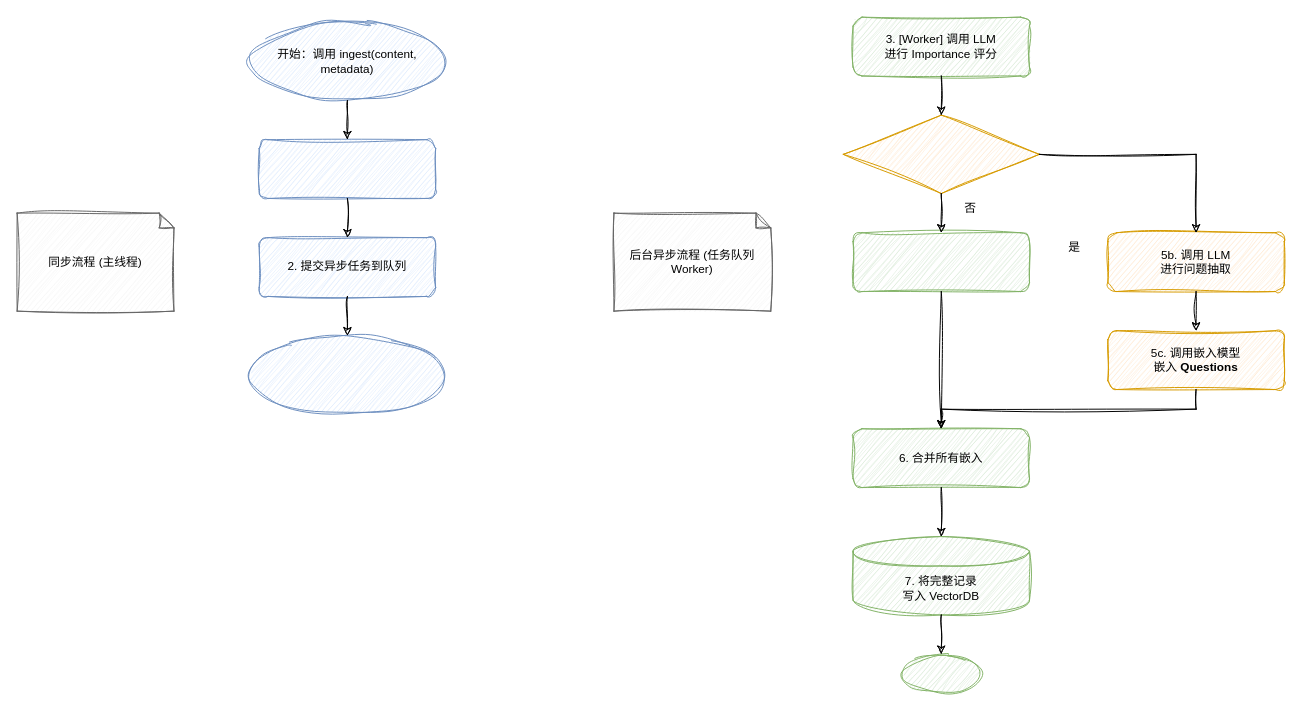
This 1301x711 diagram has some shape labels left out. Each missing label, with the centre of its shape:
1. 生成预定 memory_id: (x=347, y=168)
4. 分数 >= 问题抽取阈值?: (x=940, y=154)
5a. 调用嵌入模型 嵌入 Content: (x=940, y=262)
结束: (x=940, y=673)
结束：立即返回 memory_id: (x=346, y=374)
